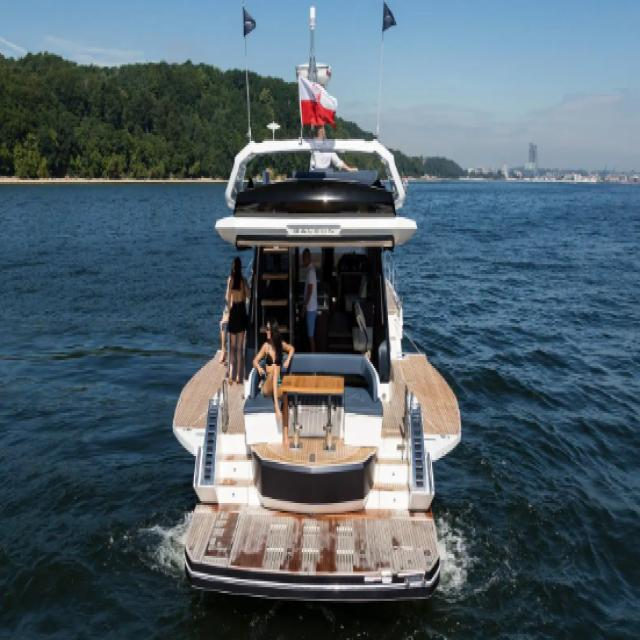houseboat: (174, 2, 461, 593)
